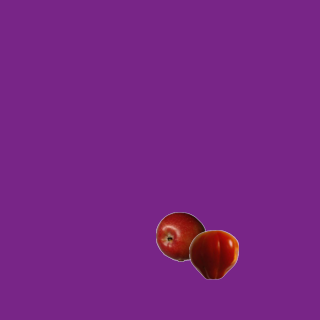Apple Braeburn: (155, 211, 205, 261)
Tomato 1: (188, 229, 238, 279)
